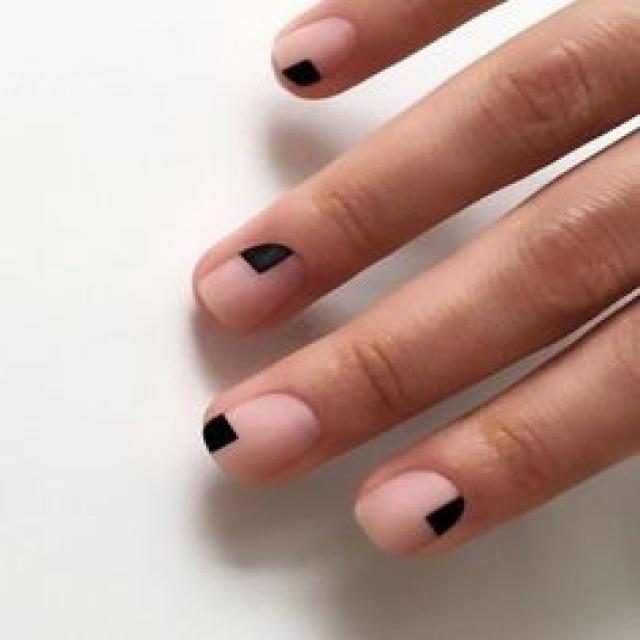Fingernail: (204, 394, 320, 484), (356, 471, 463, 555), (200, 245, 304, 330), (275, 18, 354, 86)
